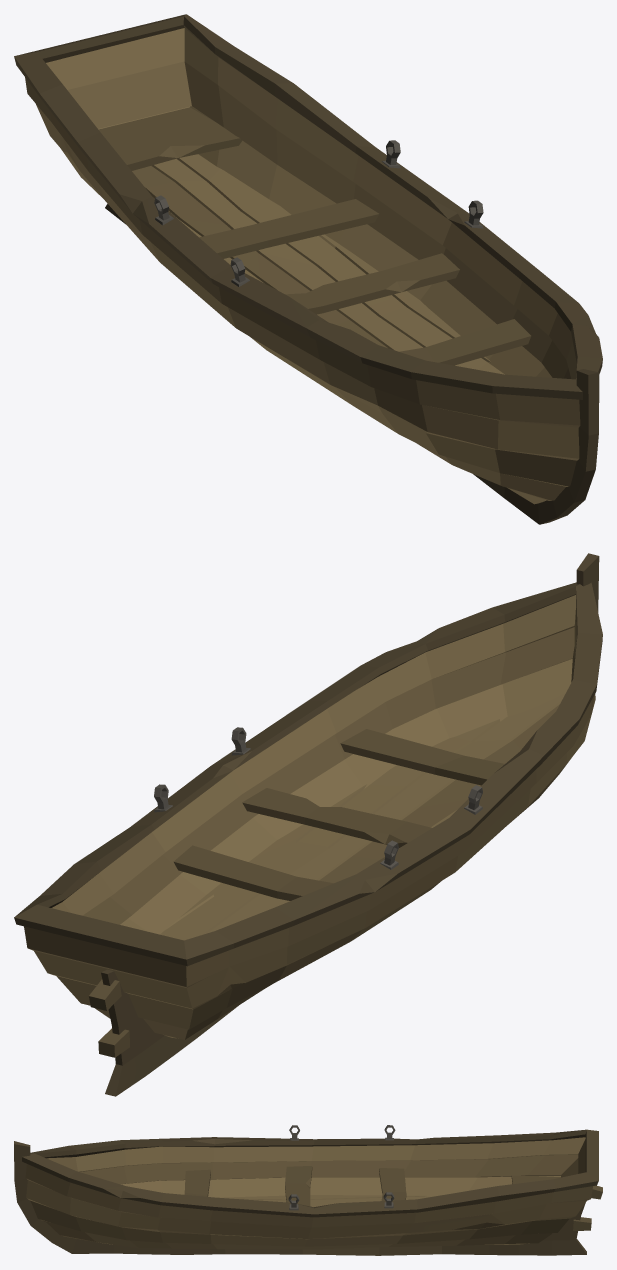
File: BoatLarge_1.fbx
3 views of the same model, one above another, from view 1: azimuth 30°, elevation 25°; view 2: azimuth 150°, elevation 25°; view 3: azimuth 270°, elevation 25° (orthographic). The views are drawn at different scales.
Visible parts, largest first — view 1: BoatLarge_1; view 2: BoatLarge_1; view 3: BoatLarge_1.
Boxes of the visible parts, x1=… form: BoatLarge_1: x1=14, y1=14, x2=602, y2=524; BoatLarge_1: x1=14, y1=553, x2=602, y2=1096; BoatLarge_1: x1=14, y1=1125, x2=602, y2=1255.
Bounding box in the file's own units: 187 × 129 × 618.
